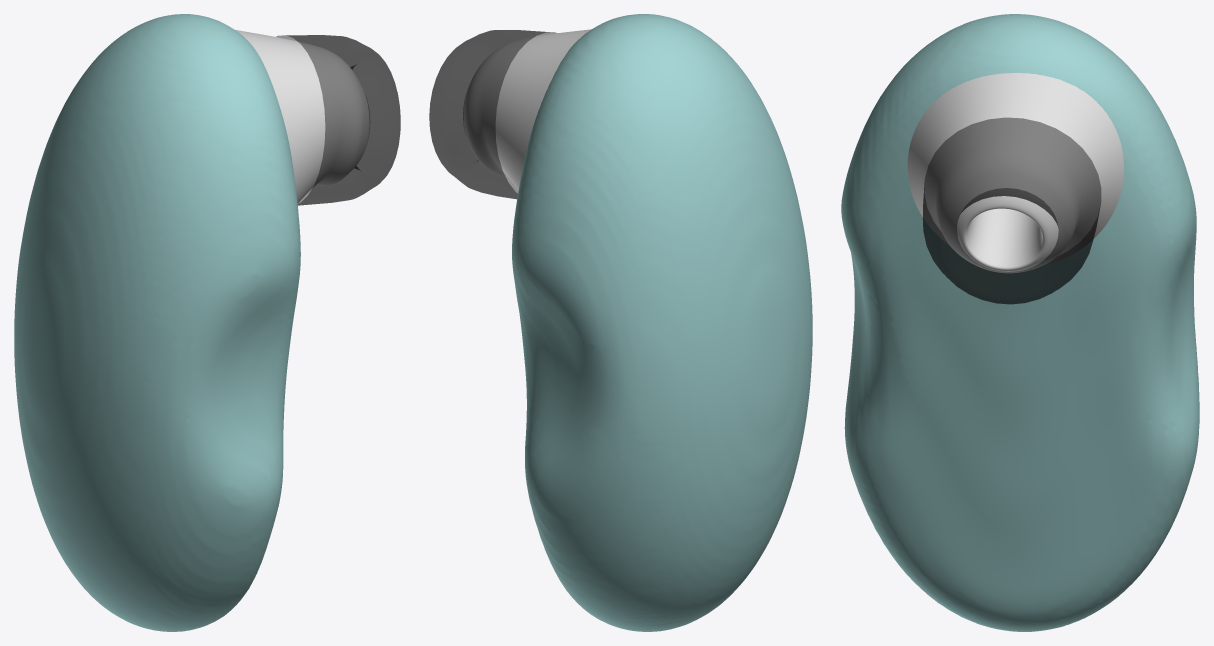
The model's file is modelFixed.glb.
3 renders of one model, left to right at view 1: azimuth 30°, elevation 25°; view 2: azimuth 150°, elevation 25°; view 3: azimuth 270°, elevation 25°, orthographic. The views are drawn at different scales.
Visible parts, largest first — view 1: Polygon, Lathe, Loft; view 2: Polygon, Lathe, Loft; view 3: Polygon, Loft, Lathe.
Boxes of the visible parts, x1,y1,x2,y2 form: Polygon: (14, 14, 300, 631); Lathe: (276, 35, 400, 205); Loft: (235, 30, 369, 203); Polygon: (512, 14, 812, 631); Lathe: (429, 30, 555, 199); Loft: (463, 29, 591, 190); Polygon: (841, 14, 1199, 631); Loft: (907, 73, 1123, 273); Lathe: (922, 117, 1100, 304).
Bounding box in the file's own units: 24.23 × 41.4 × 21.91.
